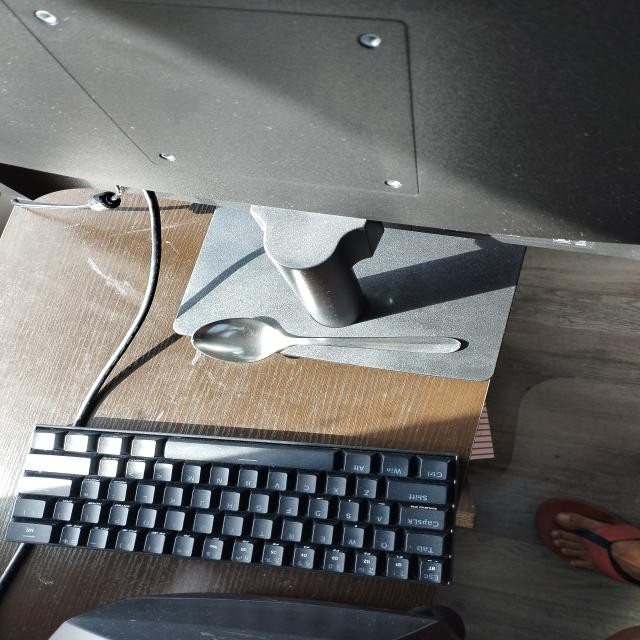Spoon: (195, 306, 480, 384)
